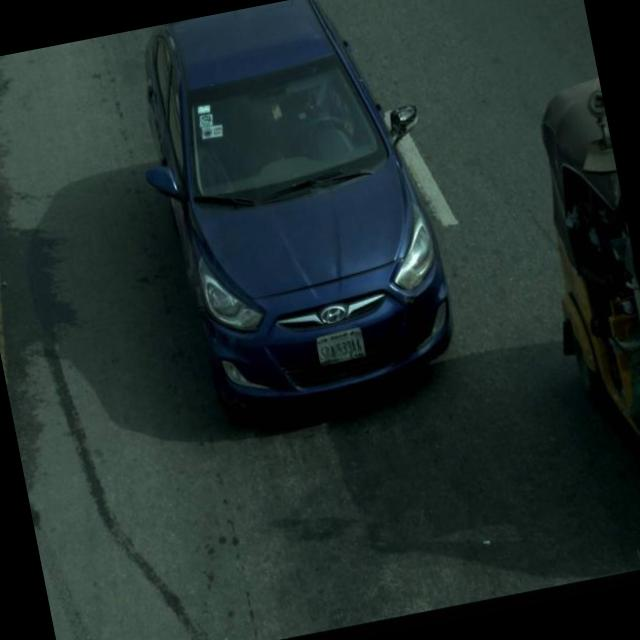person_with_seatbelt: (282, 72, 352, 143)
